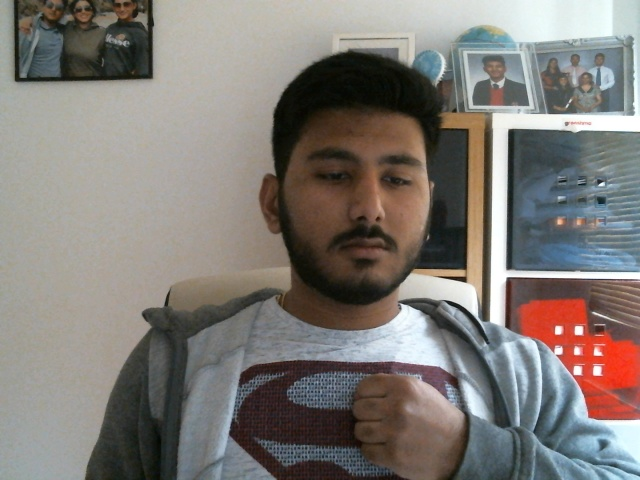morning: (351, 372, 431, 472)
